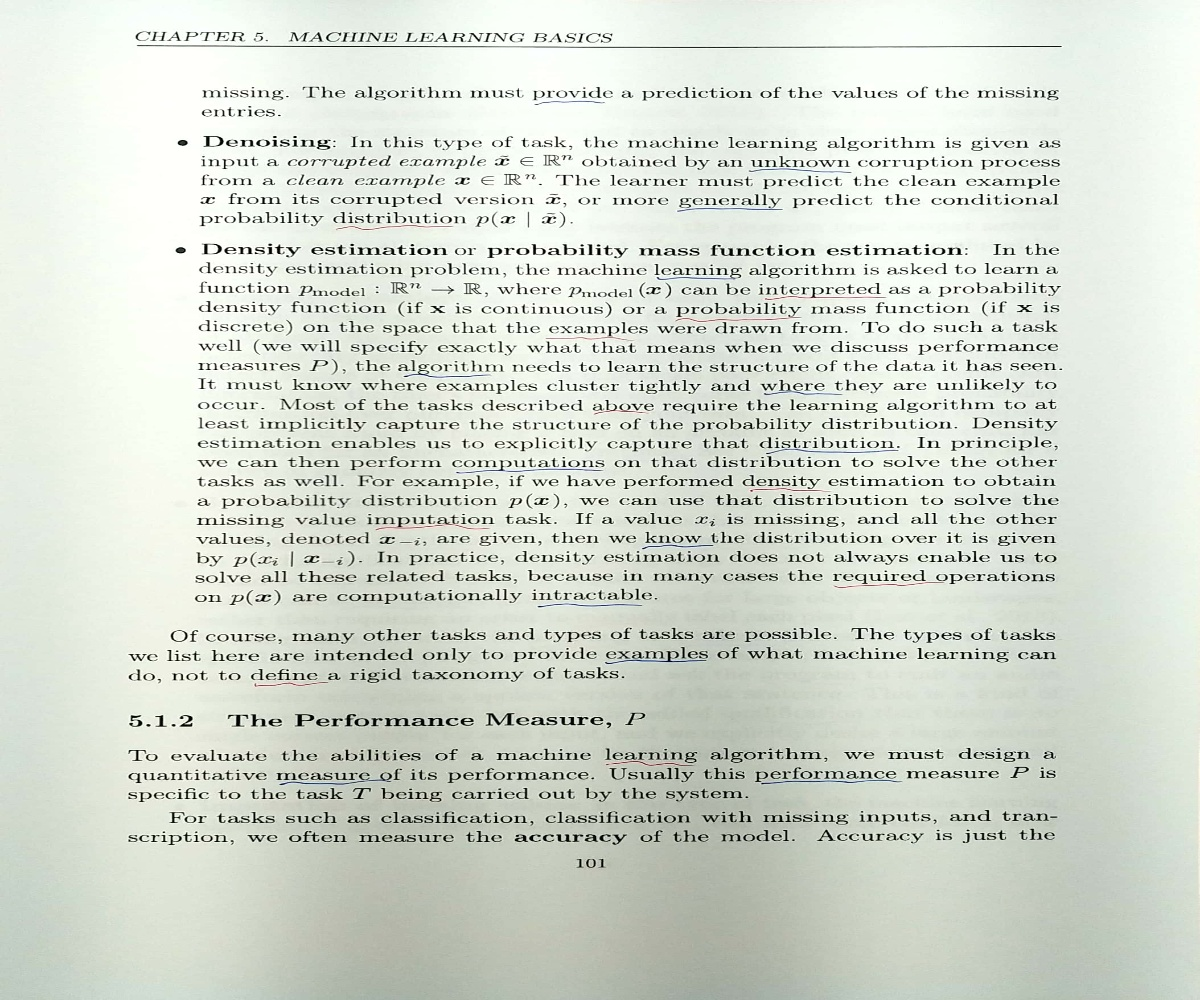underline: (764, 446, 902, 458), (374, 522, 494, 534), (279, 779, 393, 790), (533, 600, 646, 611), (455, 466, 602, 474), (674, 315, 803, 324), (672, 206, 786, 216), (334, 223, 460, 232), (762, 293, 888, 302), (746, 167, 855, 177), (831, 581, 943, 590), (655, 272, 738, 284), (750, 485, 834, 496), (251, 679, 328, 690), (605, 658, 709, 666), (606, 758, 697, 767), (761, 389, 849, 398), (532, 97, 607, 107), (757, 778, 904, 783), (639, 542, 713, 551), (543, 334, 636, 341), (401, 371, 492, 378), (591, 408, 652, 418)
